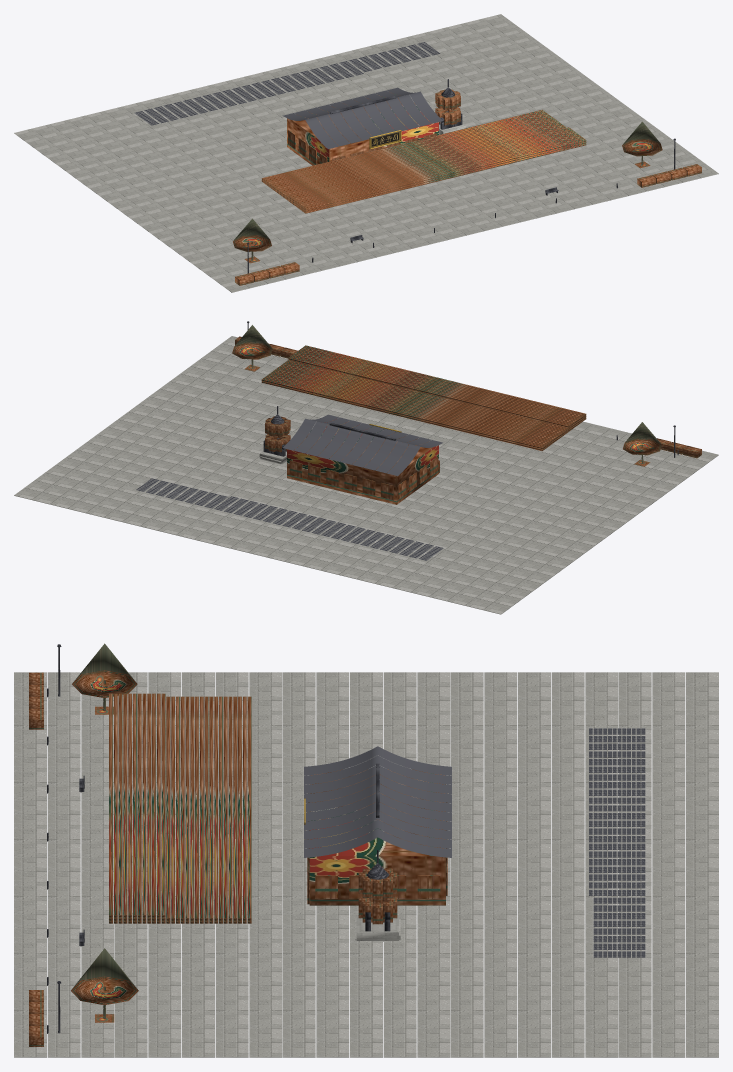
The picture shows the model from 3 angles, top to bottom: view 1: azimuth 30°, elevation 25°; view 2: azimuth 150°, elevation 25°; view 3: azimuth 270°, elevation 25°; orthographic projection. The views are drawn at different scales.
Parts seen in each view (by area): view 1: 11680_01_06088_040_01__plinth_ground_base, 11680_01_06088_040_02__mass_body_facade, 11680_01_06088_040_03__roof_deck_structure, 11680_01_06088_040_06__landscape_greenery, 11680_01_06088_040_05__window_sash_glass, 11680_01_06088_040_05__door_hardware_iron; view 2: 11680_01_06088_040_01__plinth_ground_base, 11680_01_06088_040_02__mass_body_facade, 11680_01_06088_040_03__roof_deck_structure, 11680_01_06088_040_06__landscape_greenery, 11680_01_06088_040_05__window_sash_glass; view 3: 11680_01_06088_040_01__plinth_ground_base, 11680_01_06088_040_02__mass_body_facade, 11680_01_06088_040_03__roof_deck_structure, 11680_01_06088_040_06__landscape_greenery, 11680_01_06088_040_05__window_sash_glass, 11680_01_06088_040_05__door_hardware_iron.
Boxes of the visible parts, box(x1,y1,x2,y2) form: 11680_01_06088_040_01__plinth_ground_base: box(14, 14, 718, 292); 11680_01_06088_040_02__mass_body_facade: box(261, 94, 586, 213); 11680_01_06088_040_03__roof_deck_structure: box(134, 42, 442, 149); 11680_01_06088_040_06__landscape_greenery: box(233, 121, 701, 285); 11680_01_06088_040_05__window_sash_glass: box(332, 89, 460, 160); 11680_01_06088_040_05__door_hardware_iron: box(247, 111, 675, 273); 11680_01_06088_040_01__plinth_ground_base: box(14, 336, 718, 614); 11680_01_06088_040_02__mass_body_facade: box(261, 345, 586, 504); 11680_01_06088_040_03__roof_deck_structure: box(136, 414, 443, 560); 11680_01_06088_040_06__landscape_greenery: box(232, 325, 701, 466); 11680_01_06088_040_05__window_sash_glass: box(265, 416, 290, 452); 11680_01_06088_040_01__plinth_ground_base: box(14, 672, 718, 1057); 11680_01_06088_040_02__mass_body_facade: box(109, 693, 447, 923); 11680_01_06088_040_03__roof_deck_structure: box(304, 728, 645, 957); 11680_01_06088_040_06__landscape_greenery: box(29, 643, 138, 1046); 11680_01_06088_040_05__window_sash_glass: box(307, 793, 397, 924); 11680_01_06088_040_05__door_hardware_iron: box(47, 644, 390, 1033).
Size of the model in its own units: 79.95 by 8 by 61.95.
Materials: 7 (7 with a texture image).
